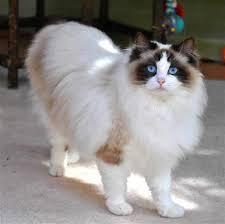ragdoll: (125, 20, 203, 114)
